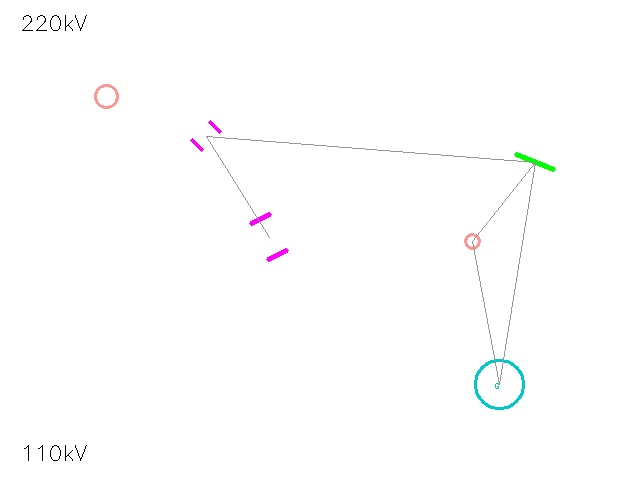busbar: (510, 137, 560, 187)
capacitor: (236, 204, 302, 270), (185, 115, 227, 157)
disconnect_switch: (83, 73, 129, 119)
generator: (475, 360, 523, 408)
voltage_transformer: (457, 226, 487, 256)
